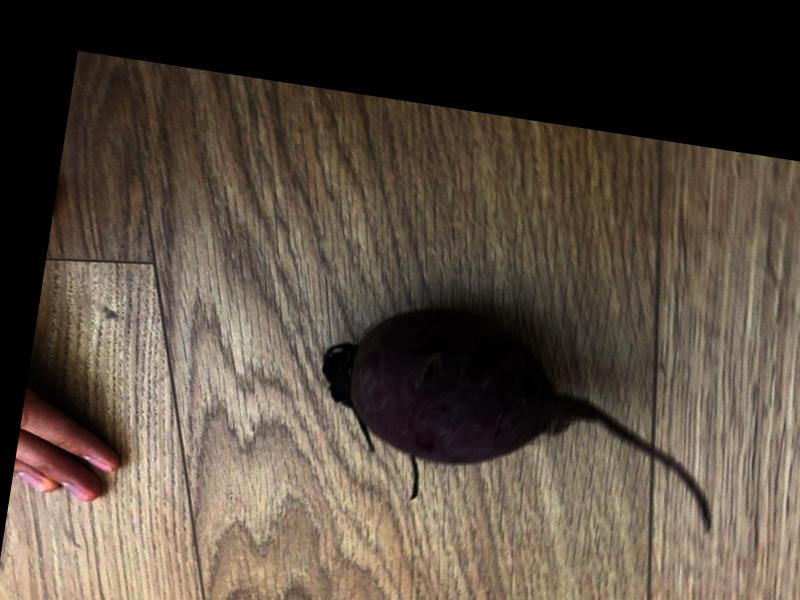Beet: (307, 295, 738, 543)
